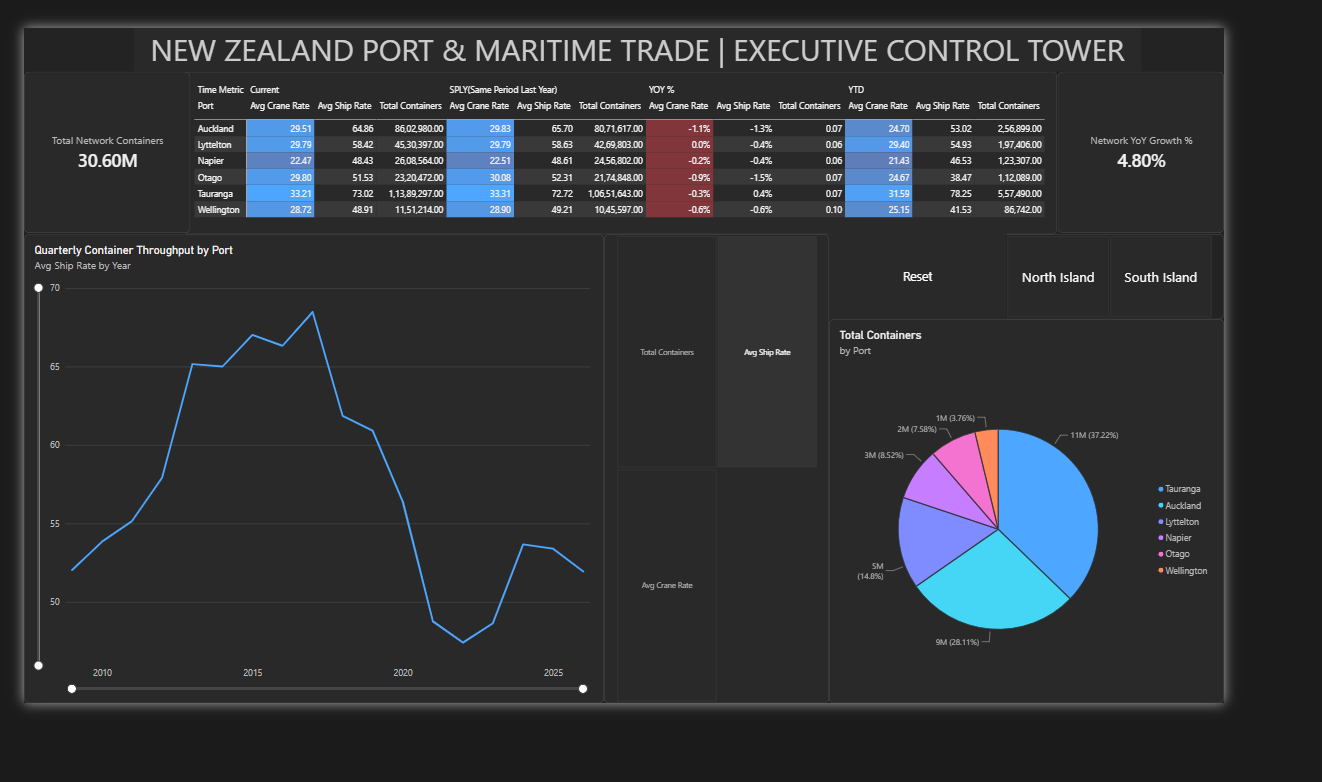

This screenshot's page, from the dashboard's own definition file:
{"tool":"powerbi","page":{"name":"NEW ZEALAND PORT & MARITIME TRADE | EXECUTIVE CONTROL TOWER","canvas":[1920,1080],"ordinal":0},"visuals":[{"type":"pivotTable","fields":{"Columns":["Time Intelligence.Time Metric"],"Rows":["Dim_Port.Port"],"Values":["Fact_Port_Operations.Avg Crane Rate","Fact_Port_Operations.Avg Ship Rate","select","Fact_Port_Operations.Total Containers"]},"box":[256.4,69.8,1397.1,259.9],"z":0},{"type":"cardVisual","fields":{"Data":["Fact_Port_Operations.Total Network Containers"]},"box":[0,72,266.9,258.1],"z":1000},{"type":"slicer","fields":{"Values":["Dim_Port.Island"]},"box":[1552,330,368,136],"z":2000},{"type":"cardVisual","fields":{"Data":["Fact_Port_Operations.Network YoY Growth %"]},"box":[1653.5,69.8,266.9,258.1],"z":3000},{"type":"lineChart","title":"Quarterly Container Throughput by Port","fields":{"Category":["Fact_Port_Operations.Date.Variation.Date Hierarchy.Year","Fact_Port_Operations.Date.Variation.Date Hierarchy.Quarter","Fact_Port_Operations.Date.Variation.Date Hierarchy.Month","Fact_Port_Operations.Date.Variation.Date Hierarchy.Day"],"Y":["Fact_Port_Operations.Total Containers"]},"box":[0,329.7,927.9,750],"z":4000},{"type":"textbox","box":[176.2,0,1611.6,69.8],"z":6000},{"type":"slicer","fields":{"Values":["Parameter.Parameter"]},"box":[928,330,360,750],"z":8000},{"type":"actionButton","box":[1288,328,284,138],"z":8500},{"type":"pieChart","fields":{"Category":["Dim_Port.Port"],"Y":["Fact_Port_Operations.Total Containers"]},"box":[1288,466,632,614],"z":8501}]}

Visuals, with their boxes on the page's 1920x1080 design canvas (x1, y1, x2, y2). These are canvas units, not pixel positions in the 1322x782 screenshot, which may show the page scaled, cropped or inside an application window:
pivotTable - Time Intelligence.Time Metric x Dim_Port.Port: [left=256, top=70, right=1654, bottom=330]
cardVisual - Fact_Port_Operations.Total Network Containers: [left=0, top=72, right=267, bottom=330]
slicer - Dim_Port.Island: [left=1552, top=330, right=1920, bottom=466]
cardVisual - Fact_Port_Operations.Network YoY Growth %: [left=1654, top=70, right=1920, bottom=328]
"Quarterly Container Throughput by Port" lineChart: [left=0, top=330, right=928, bottom=1080]
textbox: [left=176, top=0, right=1788, bottom=70]
slicer - Parameter.Parameter: [left=928, top=330, right=1288, bottom=1080]
actionButton: [left=1288, top=328, right=1572, bottom=466]
pieChart - Dim_Port.Port x Fact_Port_Operations.Total Containers: [left=1288, top=466, right=1920, bottom=1080]
